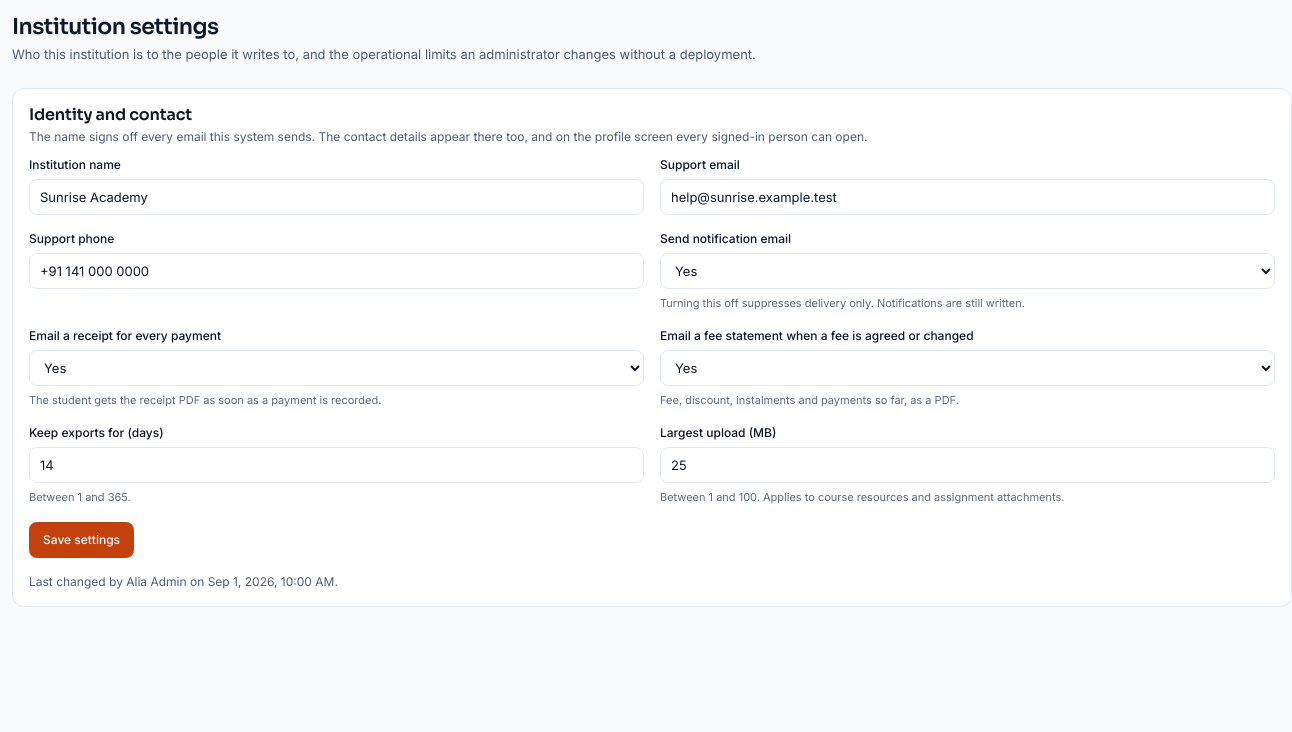
InstitutionSettingsPage › confirms a successful save in a live region
This screenshot has width=1292, height=732.
Replace the text in the field labelled "Support phone" with "+91 141 555 0199" at (336, 271), box [29,253,644,289]
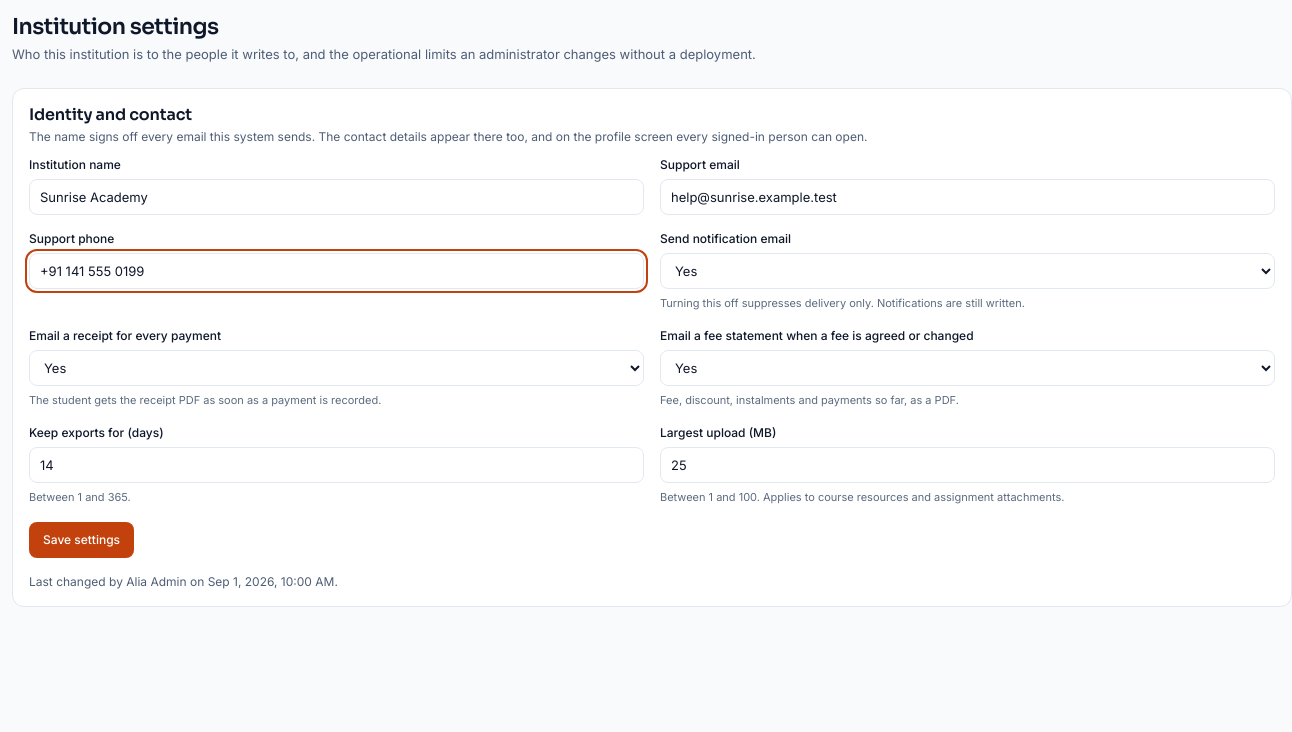
Click the button "Save settings" at (82, 540), box [29,522,134,558]
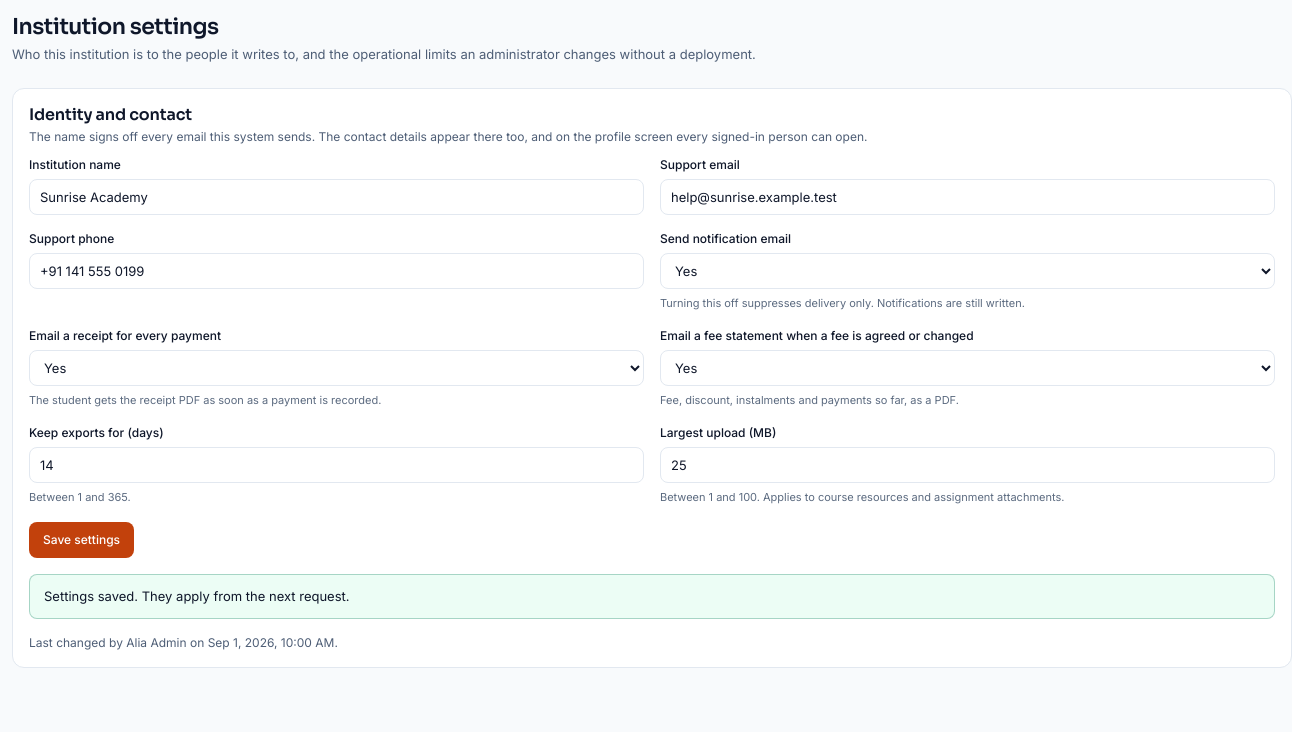
Check: the message shows "Settings saved", box [44,588,350,604]
